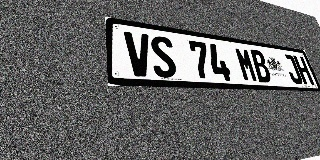4: (206, 43, 232, 81)
7: (187, 40, 214, 80)
B: (249, 49, 273, 83)
H: (293, 55, 314, 85)
J: (282, 54, 304, 84)
M: (234, 47, 259, 82)
S: (149, 35, 178, 78)
V: (124, 31, 154, 77)
